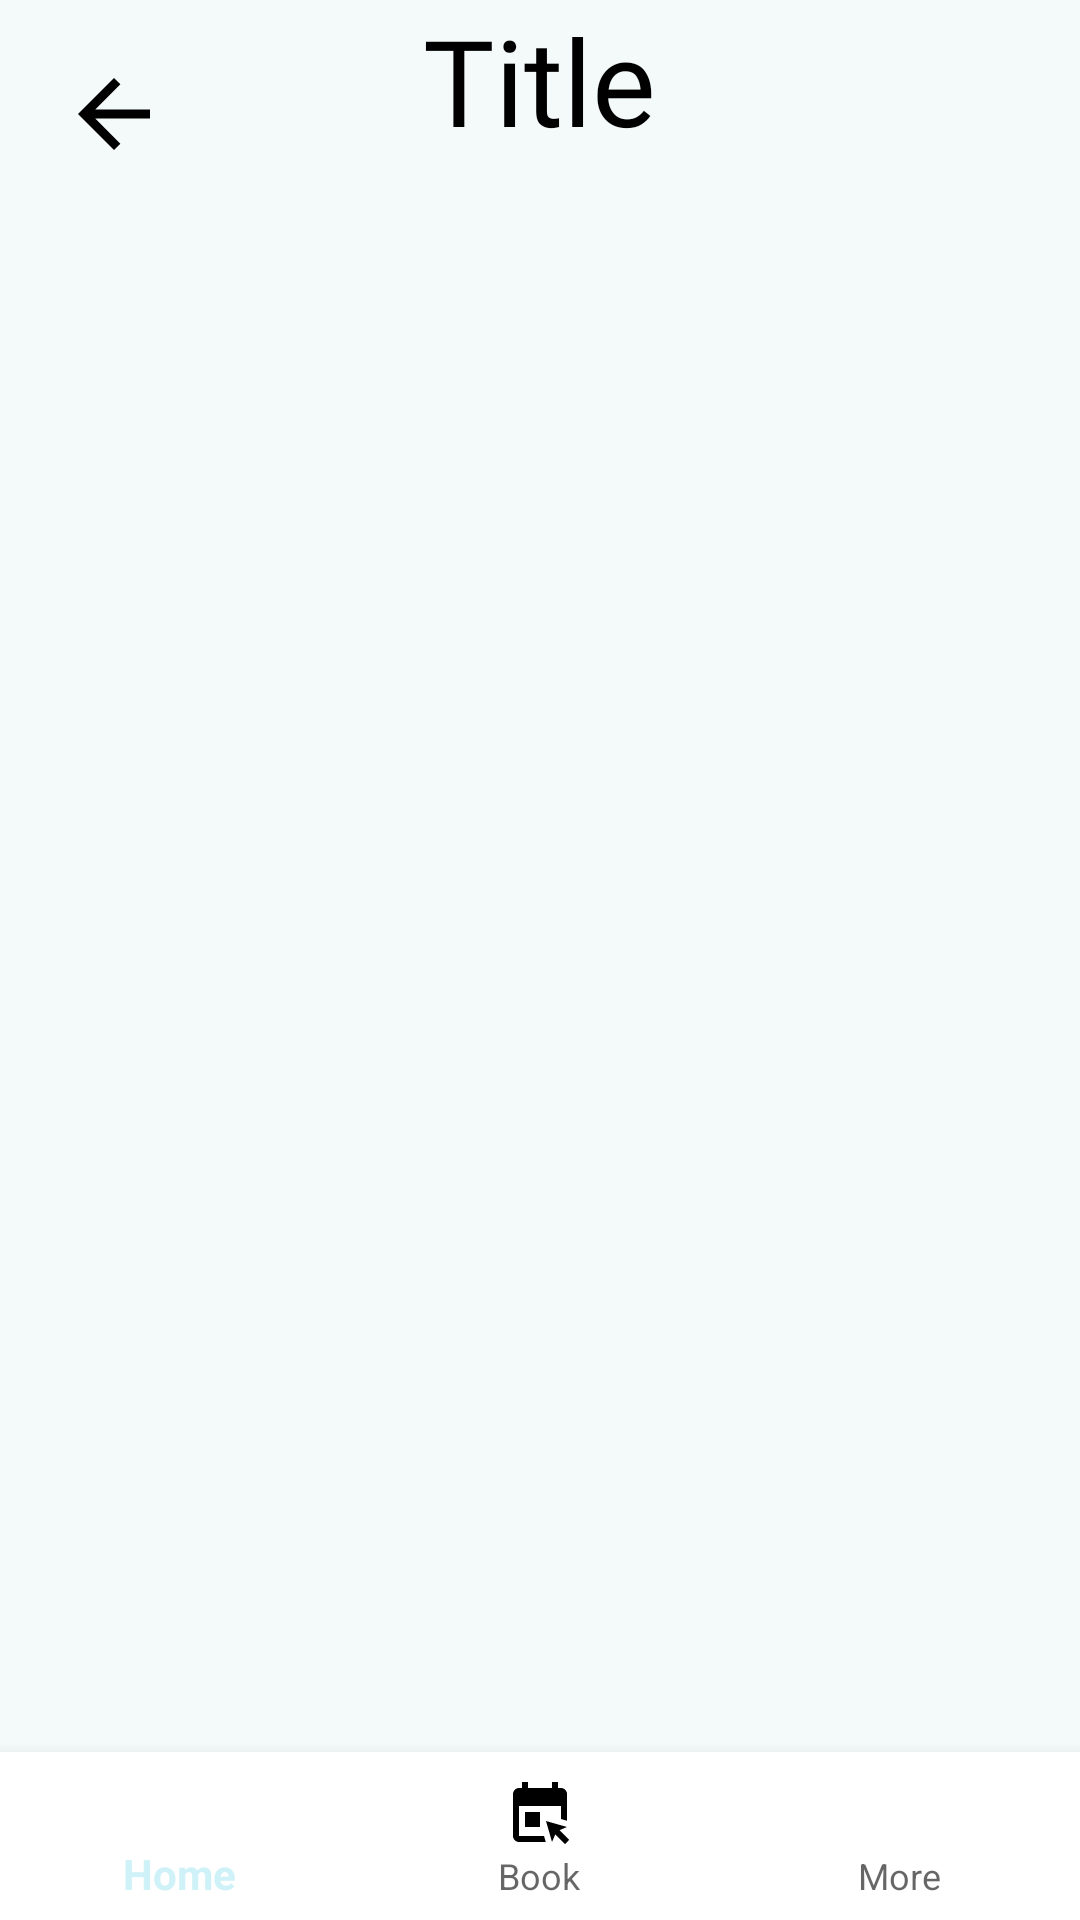

Icon bounding boxes for this 1080w x 1920h phone screenshot, format (x1, y1, x2, y2):
back: (78, 78, 150, 150)
